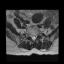CCS_normal: (32, 33, 34, 41)
LFS_normal: (36, 31, 38, 38)
LLS_normal: (34, 33, 36, 39)
RFS_normal: (29, 32, 31, 38)
RLS_normal: (31, 33, 32, 40)
